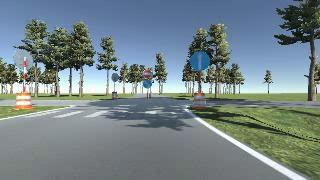go_ahead: (189, 50, 210, 70)
